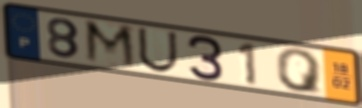1: (236, 42, 259, 86)
3: (184, 33, 226, 83)
8: (45, 17, 83, 60)
M: (82, 18, 140, 72)
Q: (274, 48, 325, 96)
U: (136, 26, 180, 74)
